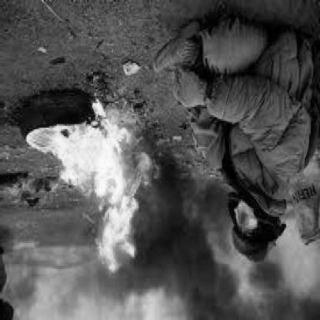Fire: (46, 100, 152, 274)
Smoke: (256, 259, 296, 319), (11, 271, 39, 307)
